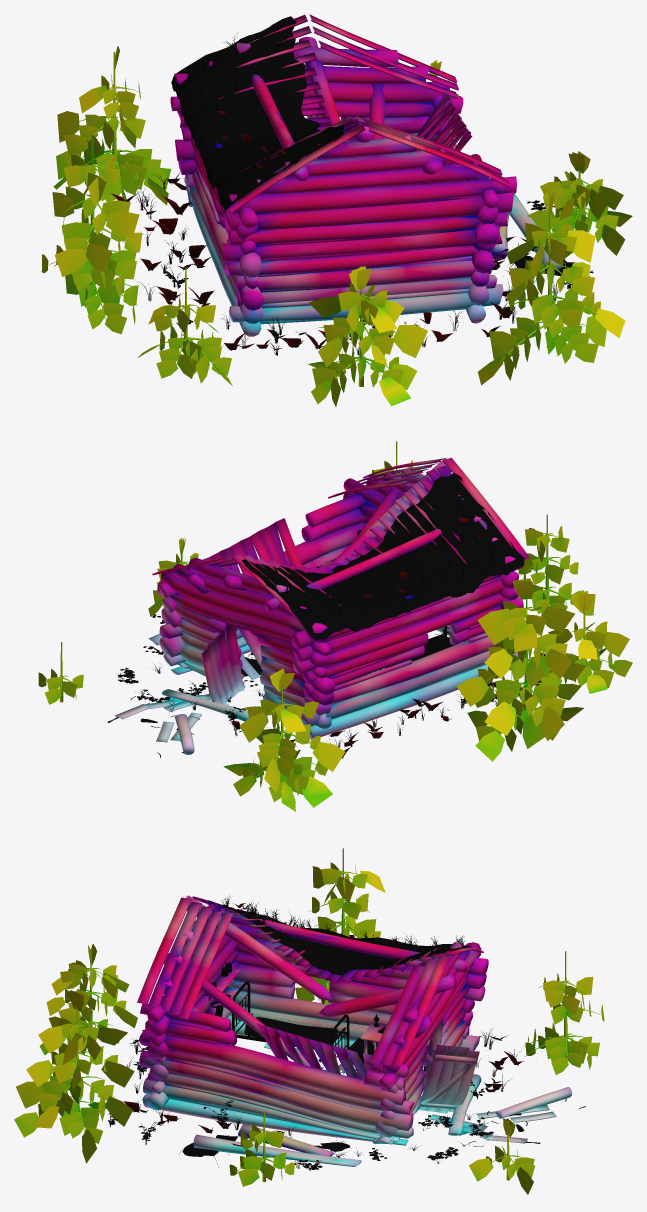
File: cabin.glb
3 views of the same model, one above another, from view 1: azimuth 30°, elevation 25°; view 2: azimuth 150°, elevation 25°; view 3: azimuth 270°, elevation 25° (orthographic). The views are drawn at different scales.
Visible parts, largest first — view 1: cabin_logs, cabin_needles, cabin_props, cabin_planks, cabin_ferns, cabin_bark; view 2: cabin_logs, cabin_needles, cabin_props, cabin_planks, cabin_bark, cabin_ferns; view 3: cabin_logs, cabin_needles, cabin_planks, cabin_props, cabin_bark, cabin_ferns.
Part boxes in pixels (x1,y1,x2,y2): cabin_logs: [170, 36, 563, 336]; cabin_needles: [41, 46, 632, 406]; cabin_props: [134, 16, 593, 355]; cabin_planks: [218, 14, 509, 212]; cabin_ferns: [111, 110, 537, 350]; cabin_bark: [45, 52, 603, 386]; cabin_logs: [148, 458, 523, 754]; cabin_needles: [38, 460, 632, 811]; cabin_props: [107, 473, 541, 757]; cabin_planks: [114, 457, 529, 742]; cabin_bark: [39, 441, 614, 786]; cabin_ferns: [231, 516, 545, 758]; cabin_logs: [139, 895, 572, 1166]; cabin_needles: [14, 862, 604, 1194]; cabin_planks: [137, 896, 556, 1143]; cabin_props: [108, 895, 585, 1170]; cabin_bark: [36, 848, 603, 1181]; cabin_ferns: [113, 903, 524, 1146].
Size of the model in its own units: 10 by 3.91 by 11.4.
